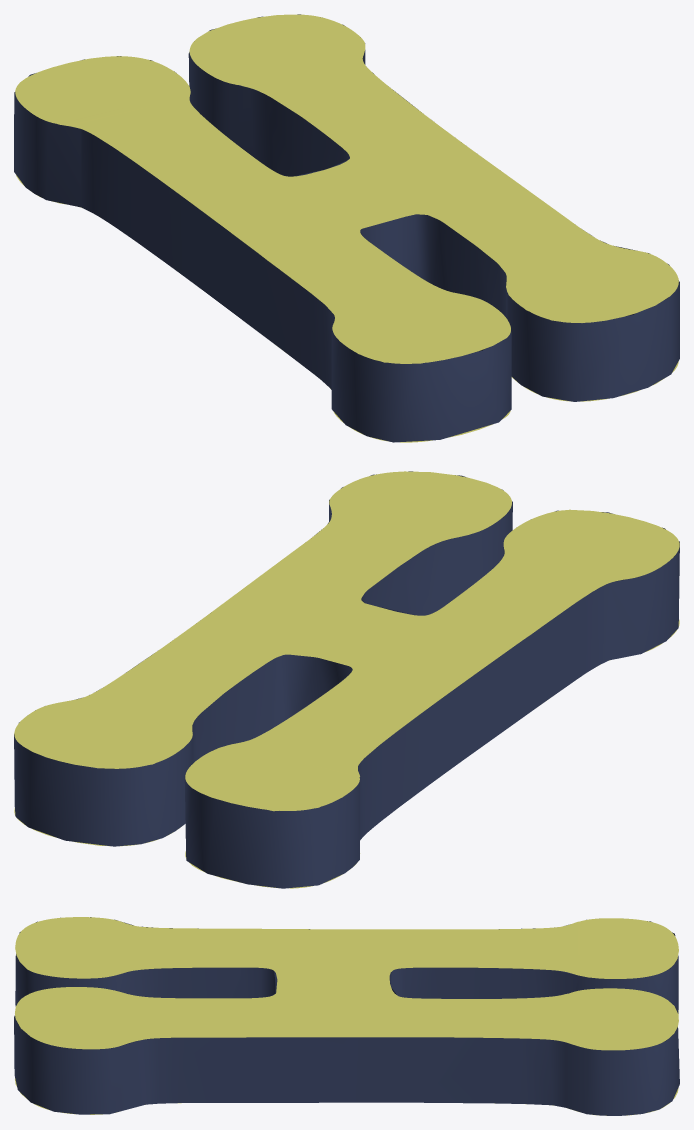
The model's file is h_boss.fbx.
3 views of the same model, one above another, from view 1: azimuth 30°, elevation 25°; view 2: azimuth 150°, elevation 25°; view 3: azimuth 270°, elevation 25° (orthographic). The views are drawn at different scales.
Parts seen in each view (by area): view 1: H; view 2: H; view 3: H.
Part boxes in pixels (left/top/right/bottom): H: left=14, top=14, right=679, bottom=442; H: left=14, top=471, right=679, bottom=888; H: left=14, top=917, right=679, bottom=1115.
Size of the model in its own units: 0.6994 by 0.16 by 1.47.
